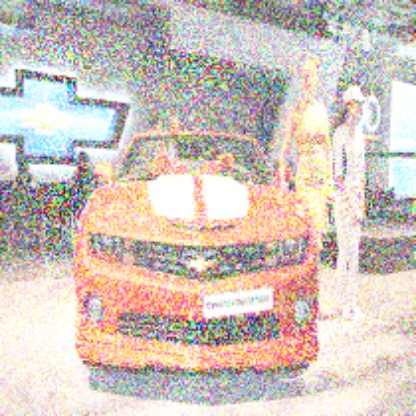Vehicle: (70, 122, 324, 382)
